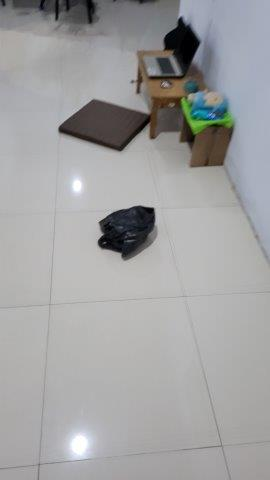plastik: (97, 206, 157, 260)
